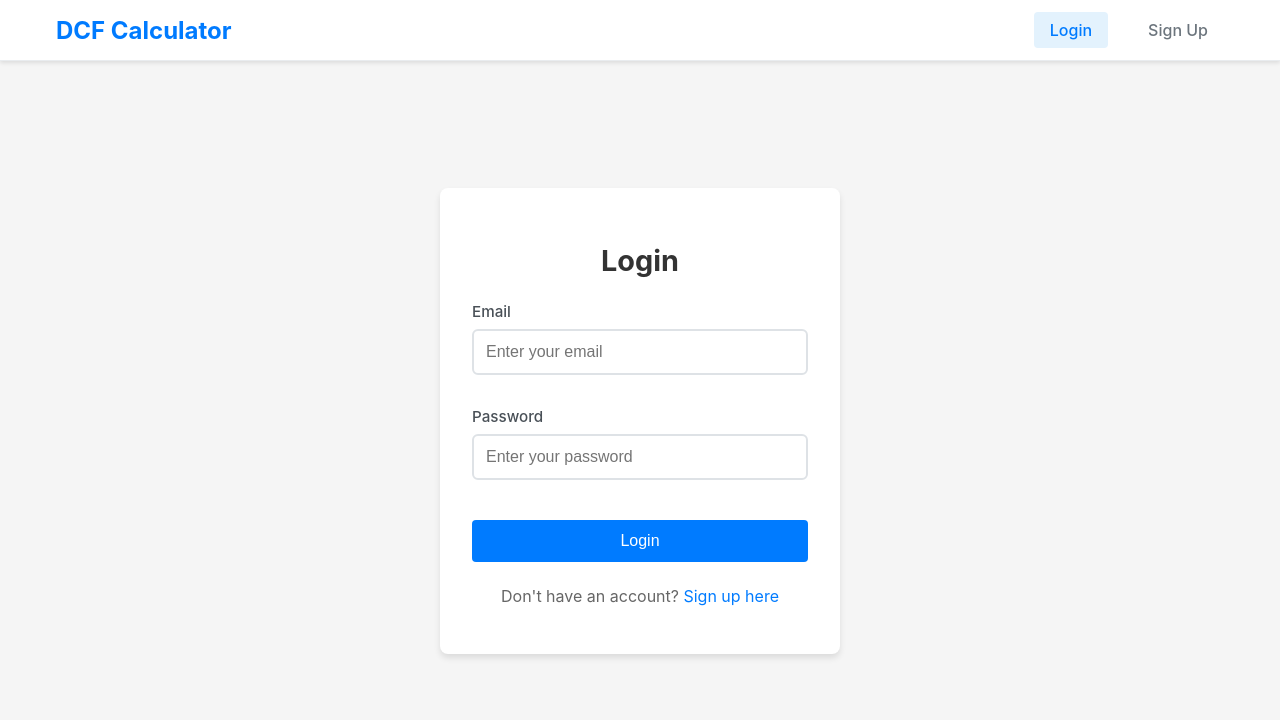
Test case: Watchlist Functionality › Watchlist Page › should handle watchlist API error gracefully
Type "test@example.com" into the field with test id "email-input" at (640, 352), box x1=472 y1=329 x2=808 y2=375
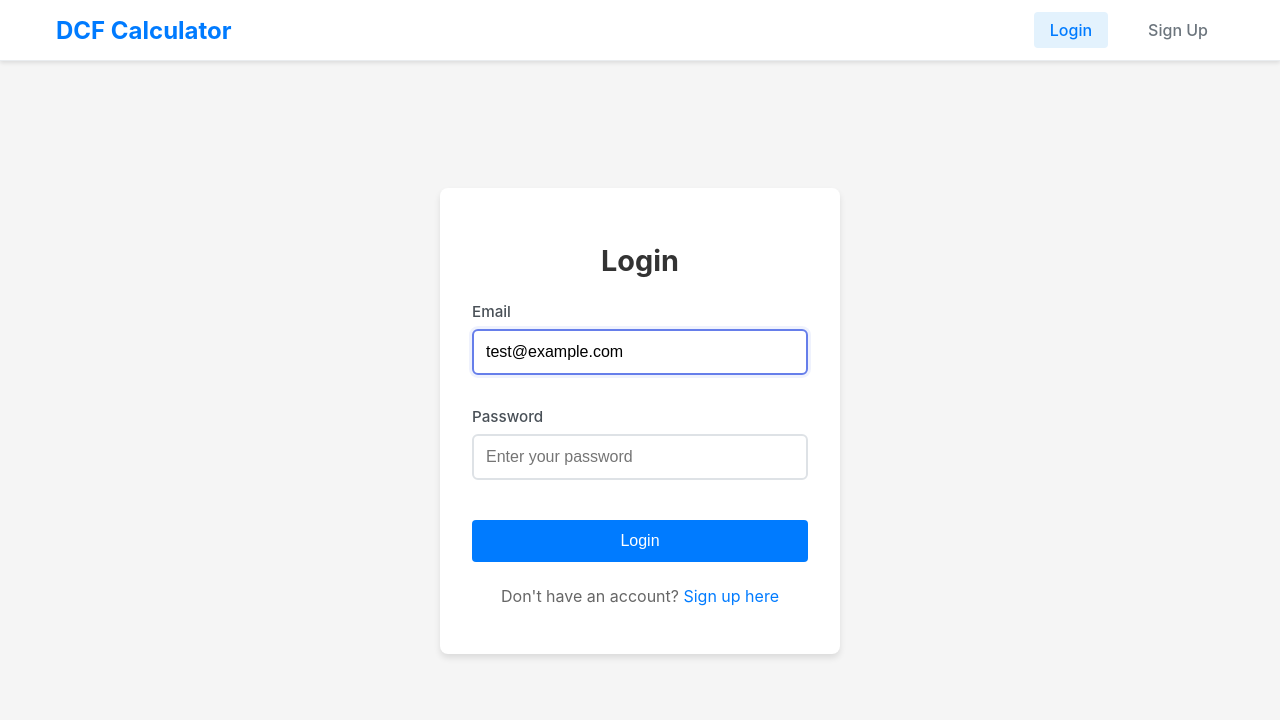
Type "password123" into the password field with test id "password-input" at (640, 457), box x1=472 y1=434 x2=808 y2=480
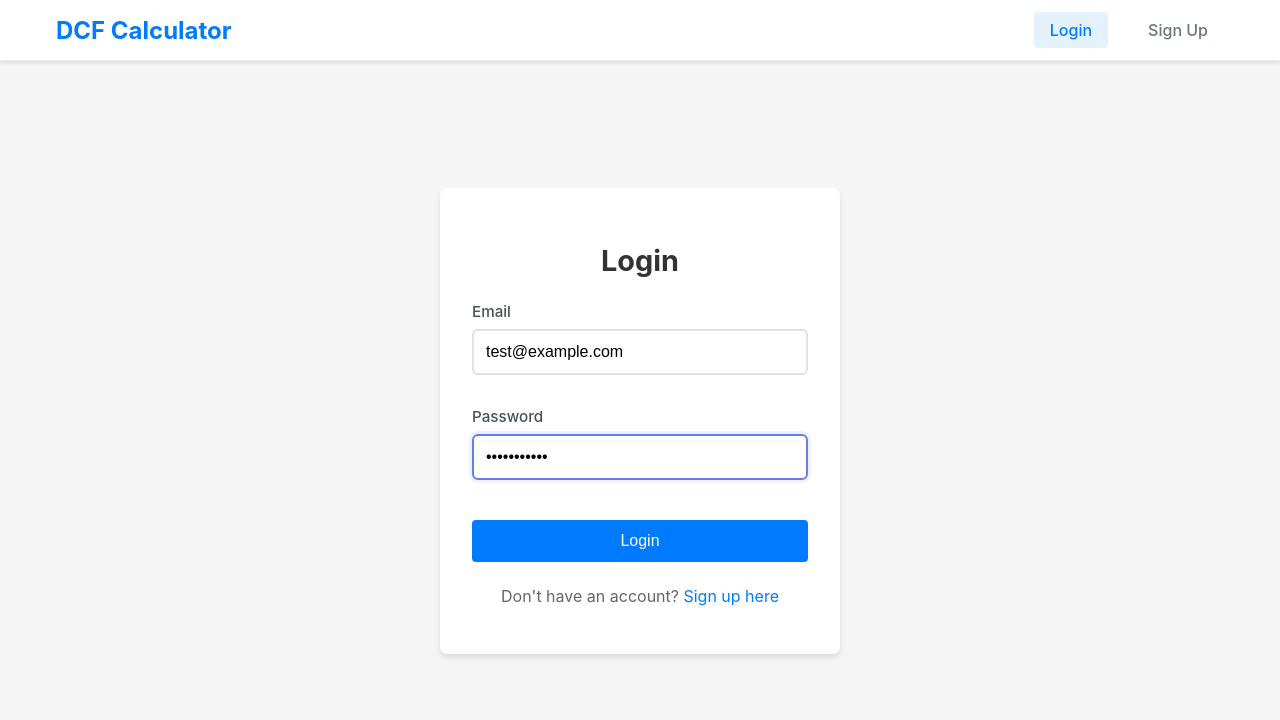
Click the button with test id "login-button" at (640, 541), box x1=472 y1=520 x2=808 y2=562
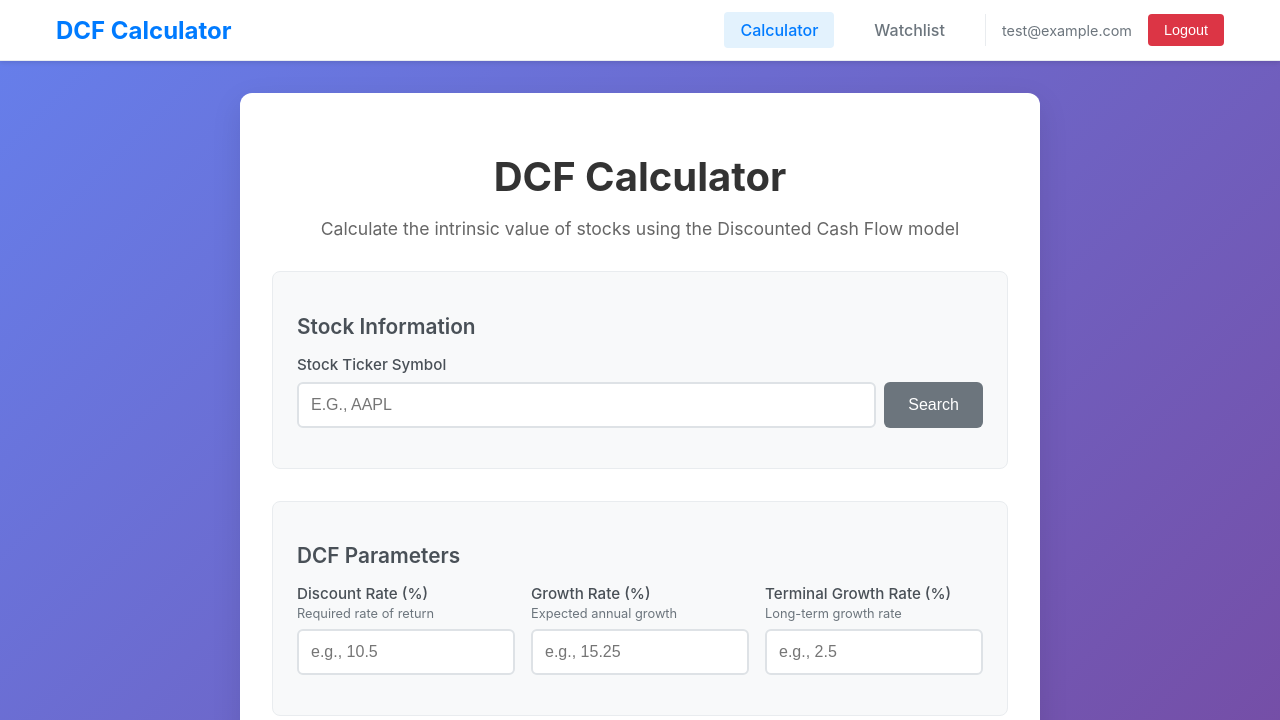
Open "/watchlist"
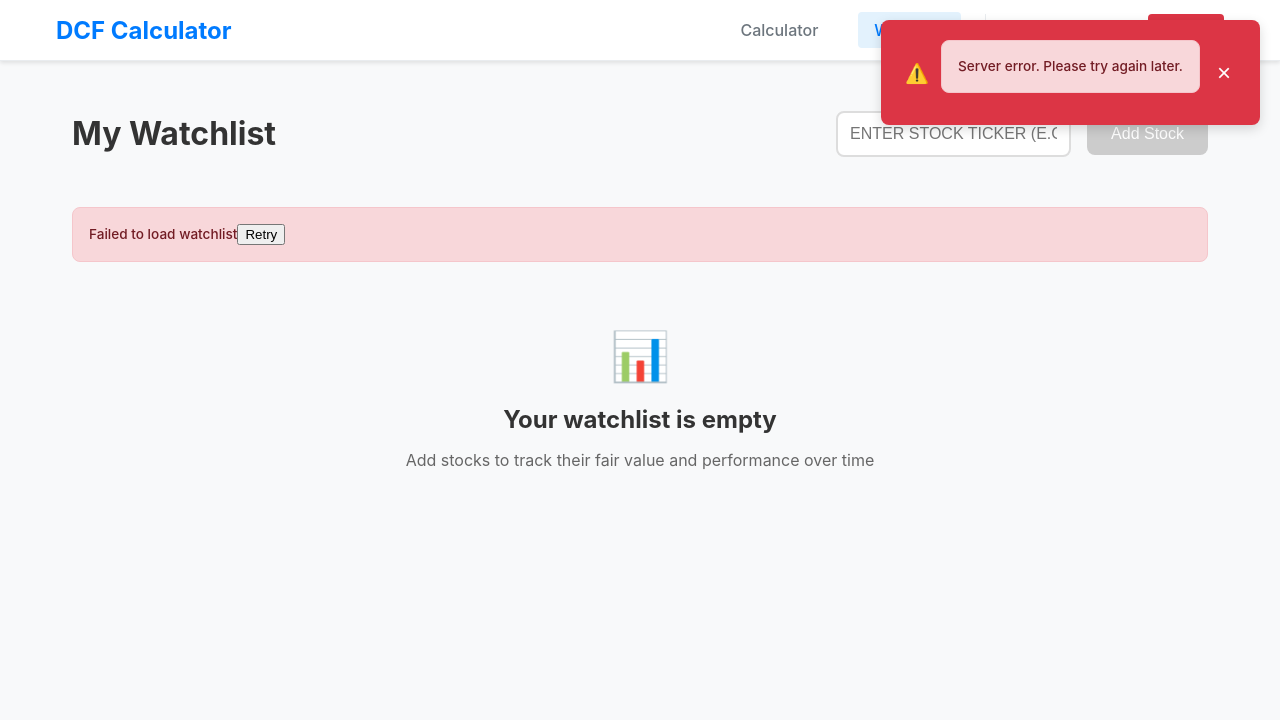
Check: the text "Failed to load watchlist" is shown, box x1=89 y1=226 x2=237 y2=242
Check: the button with test id "retry-button" is shown, box x1=237 y1=224 x2=285 y2=245
